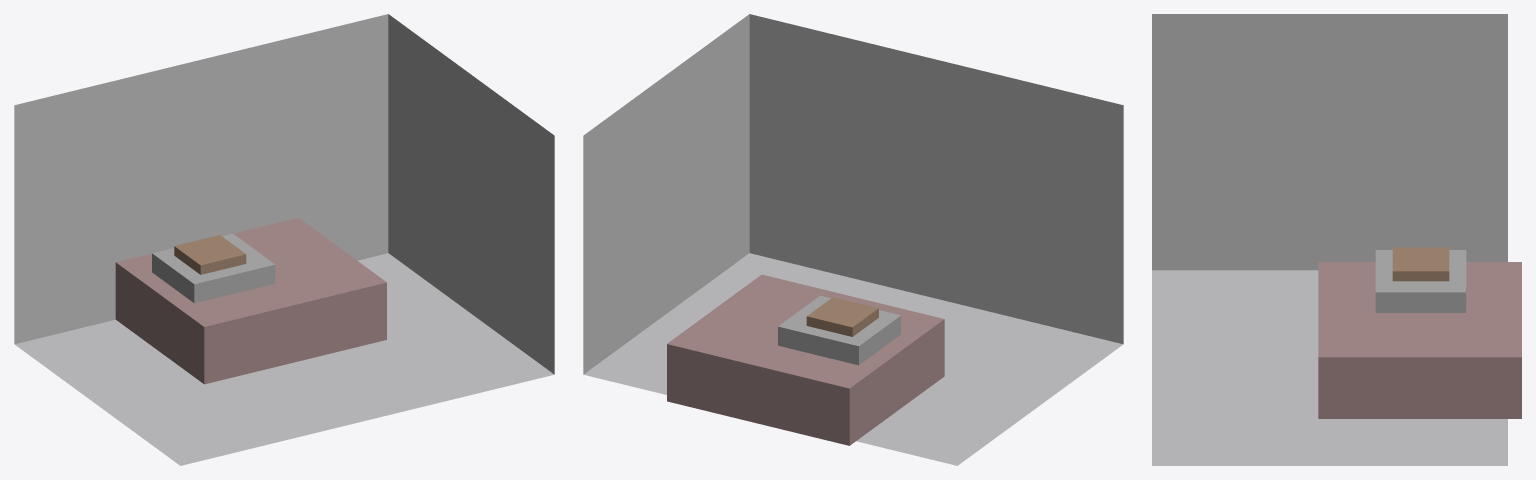
File: current_layout.glb
The picture shows the model from 3 angles, left to right: view 1: azimuth 30°, elevation 25°; view 2: azimuth 150°, elevation 25°; view 3: azimuth 270°, elevation 25°; orthographic projection. The views are drawn at different scales.
Visible parts, largest first — view 1: room, bed, wardrobe, chair, dustbin; view 2: room, bed, wardrobe, chair, dustbin; view 3: room, bed, dustbin, chair.
Part boxes in pixels (x1,y1,x2,y2): room: [14, 14, 554, 465]; bed: [115, 217, 386, 384]; wardrobe: [152, 235, 266, 303]; chair: [174, 235, 246, 274]; dustbin: [161, 234, 275, 301]; room: [583, 14, 1123, 465]; bed: [667, 274, 944, 445]; wardrobe: [785, 313, 900, 365]; chair: [806, 297, 878, 336]; dustbin: [778, 295, 892, 347]; room: [1152, 14, 1507, 465]; bed: [1318, 262, 1521, 418]; dustbin: [1375, 254, 1465, 312]; chair: [1392, 247, 1449, 281].
Size of the model in its own units: 4.09 by 2.5 by 3.27.
